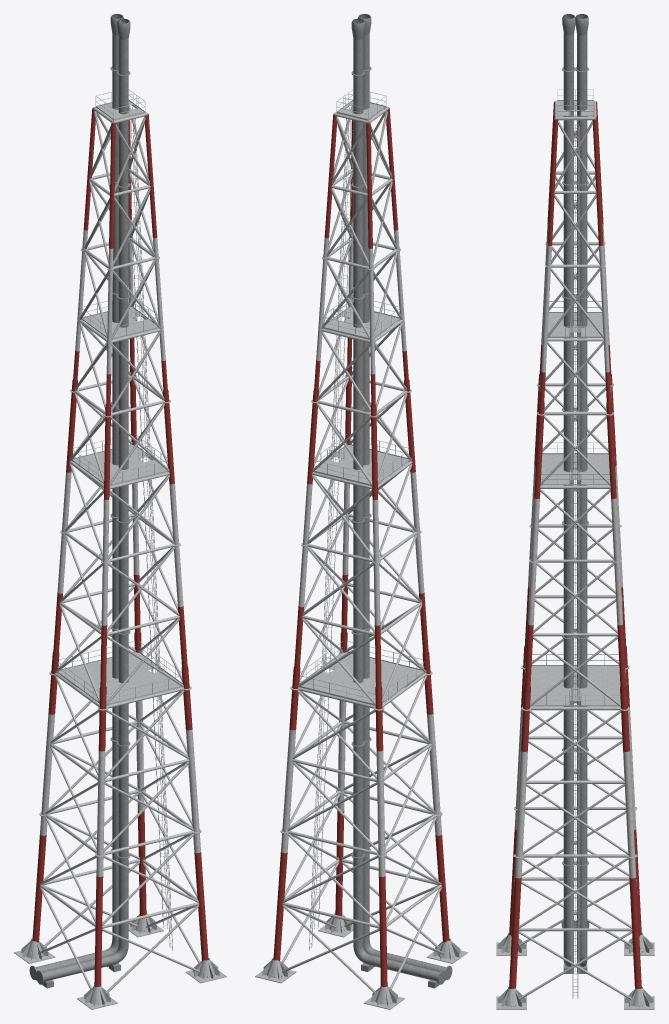
The model's file is flare-support-derrick.glb.
3 views of the same model, side by side, from view 1: azimuth 30°, elevation 25°; view 2: azimuth 150°, elevation 25°; view 3: azimuth 270°, elevation 25° (orthographic).
Parts seen in each view (by area): view 1: Bracing, Legs, FlareRisers, RingBeams, Platforms&Handrail, CagedLadder, BaseAssemblies; view 2: Bracing, Legs, FlareRisers, RingBeams, Platforms&Handrail, CagedLadder, BaseAssemblies; view 3: FlareRisers, Legs, Bracing, Platforms&Handrail, CagedLadder, RingBeams, BaseAssemblies, FlareTips.
Part boxes in pixels (x1=…): Bracing: x1=37, y1=105, x2=200, y2=993; Legs: x1=32, y1=107, x2=208, y2=986; FlareRisers: x1=29, y1=34, x2=130, y2=988; RingBeams: x1=40, y1=104, x2=199, y2=928; Platforms&Handrail: x1=57, y1=89, x2=182, y2=705; CagedLadder: x1=128, y1=107, x2=172, y2=950; BaseAssemblies: x1=14, y1=913, x2=226, y2=1009; Bracing: x1=281, y1=105, x2=444, y2=993; Legs: x1=273, y1=107, x2=449, y2=986; FlareRisers: x1=351, y1=34, x2=452, y2=988; RingBeams: x1=282, y1=104, x2=441, y2=928; Platforms&Handrail: x1=299, y1=89, x2=424, y2=705; CagedLadder: x1=309, y1=107, x2=353, y2=950; BaseAssemblies: x1=255, y1=913, x2=467, y2=1009; FlareRisers: x1=561, y1=33, x2=589, y2=973; Legs: x1=509, y1=101, x2=641, y2=988; Bracing: x1=510, y1=111, x2=640, y2=999; Platforms&Handrail: x1=530, y1=89, x2=620, y2=706; CagedLadder: x1=571, y1=120, x2=579, y2=998; RingBeams: x1=514, y1=100, x2=636, y2=931; BaseAssemblies: x1=496, y1=933, x2=654, y2=1009; FlareTips: x1=562, y1=14, x2=588, y2=35.
Bounding box in the file's own units: 15.61 × 93.22 × 13.9.
Materials: 4 (4 with a texture image).
